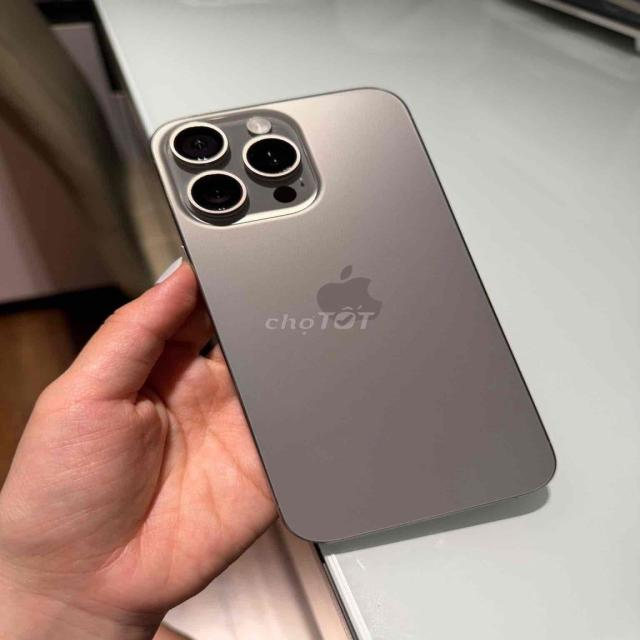scratch: (168, 118, 314, 220)
